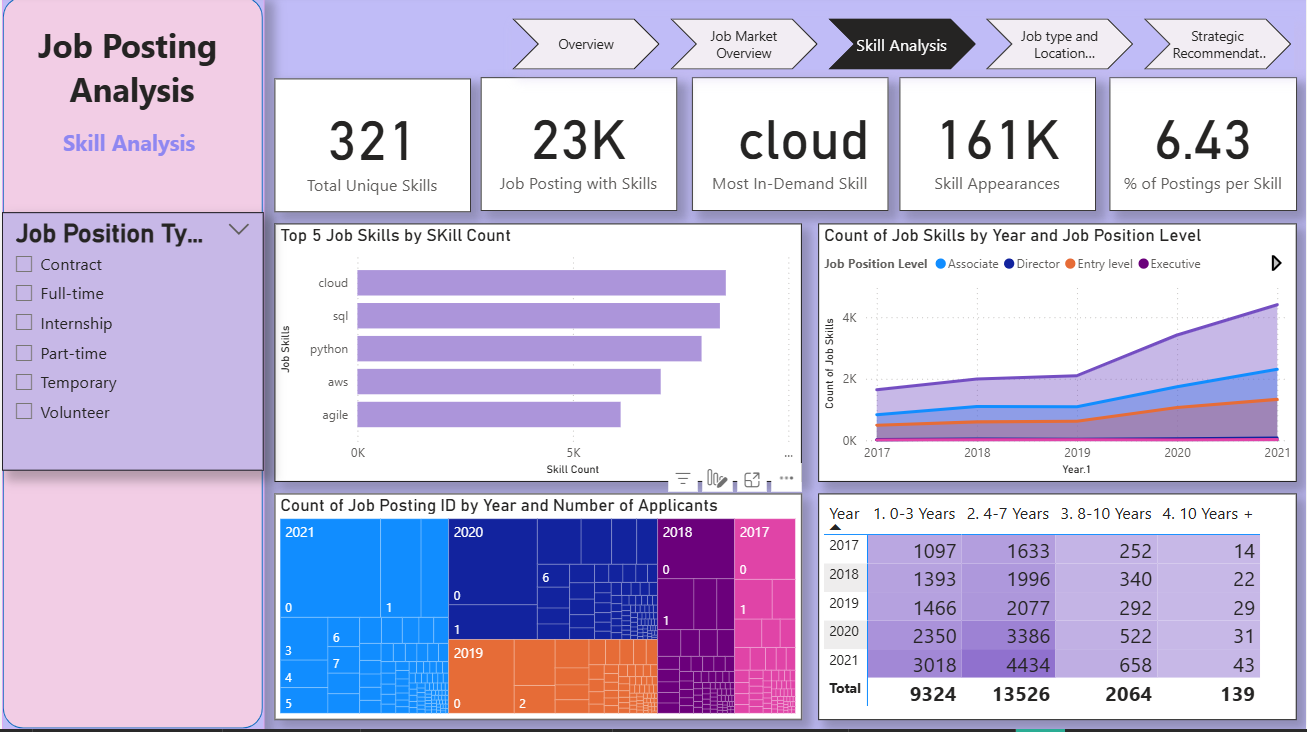

Layout of this report page (visuals, bound fields, positions):
{"tool":"powerbi","page":{"name":"Skill Analysis ","canvas":[1280,720],"ordinal":2},"visuals":[{"type":"shape","box":[0,0,257.3,720.2],"z":0},{"type":"textbox","box":[19.4,22,215.9,142.2],"z":1000},{"type":"card","fields":{"Values":["_measure.Total Unique Skills"]},"box":[267.5,81,192.6,131.3],"z":2000},{"type":"card","fields":{"Values":["_measure.Most In-Demand Skill"]},"box":[677.3,79.8,192.6,131.3],"z":3000},{"type":"card","fields":{"Values":["_measure.Job Posting with Skills"]},"box":[469.9,79.8,192.6,131.3],"z":4000},{"type":"card","fields":{"Values":["_measure.Skill Appearances"]},"box":[881,79.8,192.6,131.3],"z":5000},{"type":"card","fields":{"Values":["_measure.% of Postings per Skill"]},"box":[1087.1,79.8,184.1,131.3],"z":6000},{"type":"clusteredBarChart","title":"Top 5 Job Skills by SKill Count","fields":{"Y":["_measure.Skill Count"],"Category":["DimSkill.Job Skills"]},"box":[267.5,223.3,517.8,254],"z":7000},{"type":"areaChart","title":"Count of Job Skills by Year and Job Position Level","fields":{"Category":["DimDate.Year.1"],"Series":["DimPosition.Job Position Level"],"Y":["CountNonNull(Data.Job Skills)"]},"box":[801.2,223.3,469.9,254],"z":8000},{"type":"slicer","fields":{"Values":["Data.Job Position Type"]},"box":[0,212,256.9,253.8],"z":9000},{"type":"treemap","fields":{"Group":["DimDate.Date.Variation.Date Hierarchy.Year"],"Values":["CountNonNull(Dim_job_postings.Job Posting ID)"],"Details":["Data.Number of Applicants"]},"box":[267.5,488.3,517.8,222.1],"z":10000},{"type":"pivotTable","fields":{"Rows":["DimDate.Date.Variation.Date Hierarchy.Year"],"Values":["CountNonNull(Data.Job Skills)"],"Columns":["Data.Experience(Years)"]},"box":[801.2,488.3,469.9,222.1],"z":11000},{"type":"pageNavigator","box":[500.6,22.1,768.1,50.3],"z":12000}]}

Visuals, with their boxes in screenshot pixels (x1, y1, x2, y2), scaled from the page's 1280x720 canvas onto the 1307x732 screenshot:
shape: detection(0, 0, 263, 731)
textbox: detection(20, 22, 240, 167)
card - _measure.Total Unique Skills: detection(273, 82, 470, 216)
card - _measure.Most In-Demand Skill: detection(692, 81, 888, 215)
card - _measure.Job Posting with Skills: detection(480, 81, 676, 215)
card - _measure.Skill Appearances: detection(900, 81, 1096, 215)
card - _measure.% of Postings per Skill: detection(1110, 81, 1298, 215)
"Top 5 Job Skills by SKill Count" clusteredBarChart: detection(273, 227, 802, 485)
"Count of Job Skills by Year and Job Position Level" areaChart: detection(818, 227, 1298, 485)
slicer - Data.Job Position Type: detection(0, 216, 262, 474)
treemap - DimDate.Date.Variation.Date Hierarchy.Year x CountNonNull(Dim_job_postings.Job Posting ID): detection(273, 496, 802, 722)
pivotTable - DimDate.Date.Variation.Date Hierarchy.Year x CountNonNull(Data.Job Skills): detection(818, 496, 1298, 722)
pageNavigator: detection(511, 22, 1295, 74)
